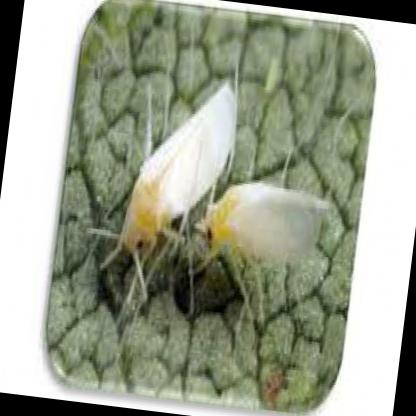whitefly: (125, 85, 236, 254), (200, 183, 328, 263)
